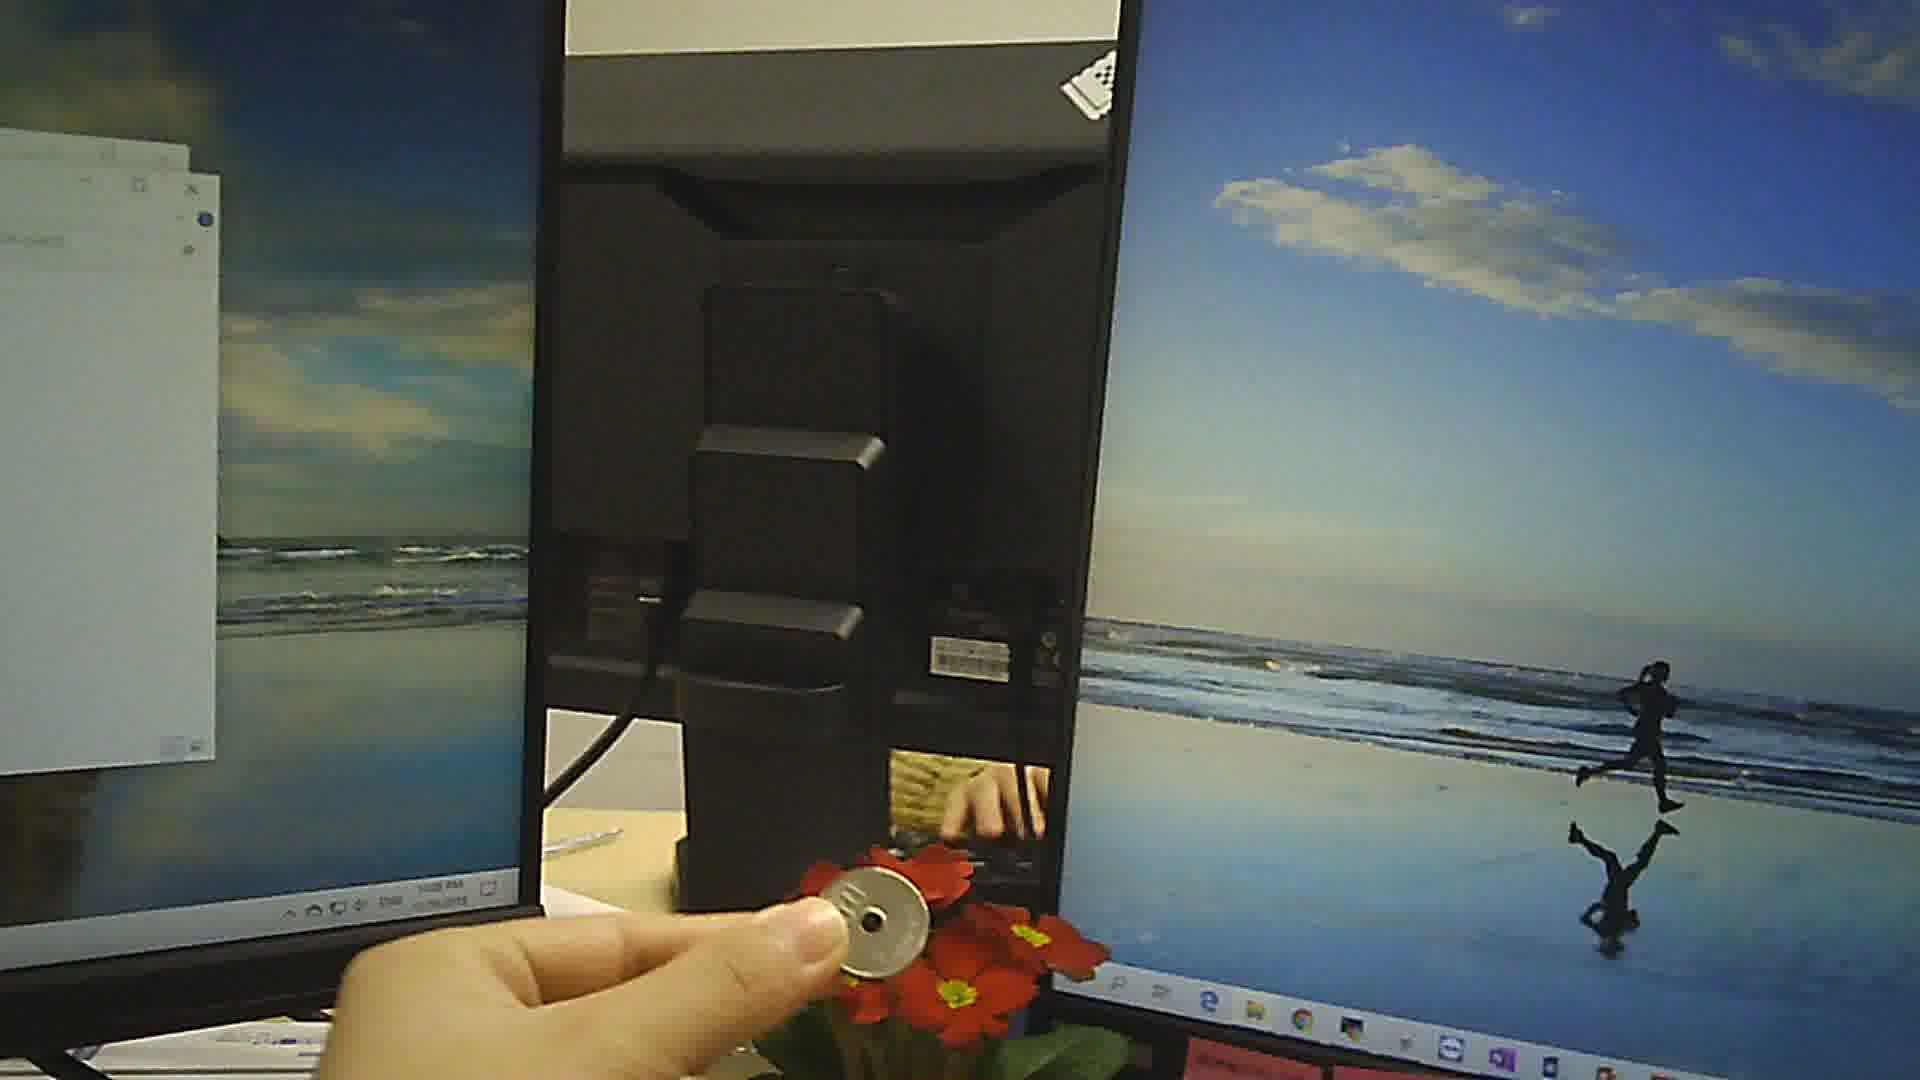50 Yen: (811, 866, 940, 982)
